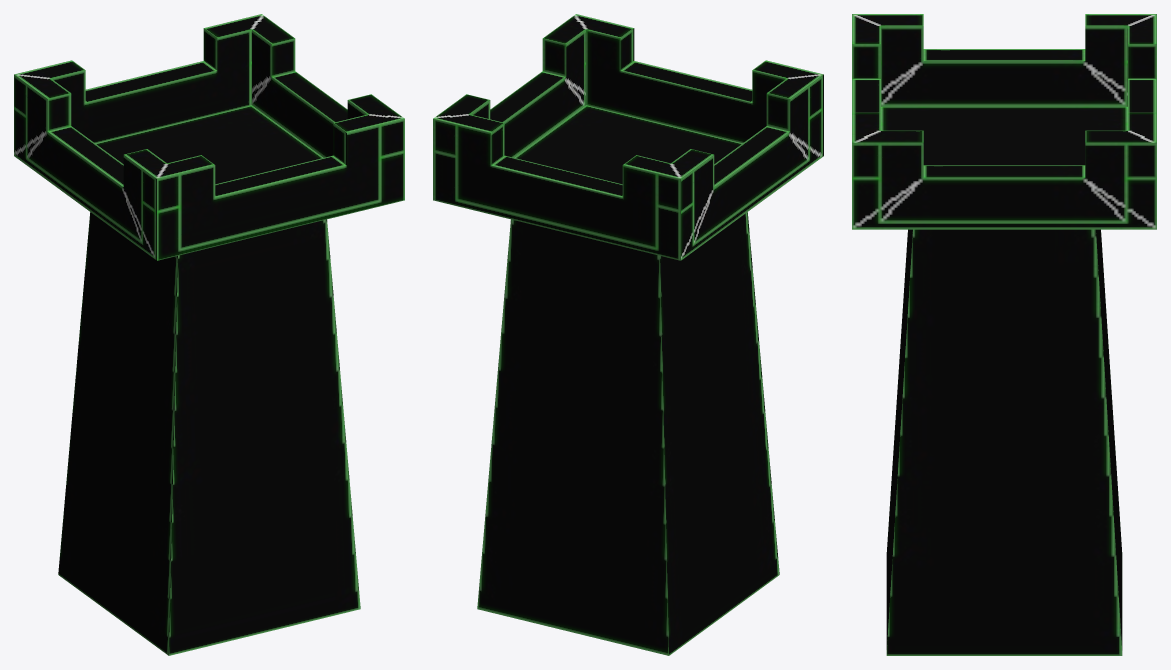
File: build-tower.FBX
3 views of the same model, side by side, from view 1: azimuth 30°, elevation 25°; view 2: azimuth 150°, elevation 25°; view 3: azimuth 270°, elevation 25° (orthographic). The views are drawn at different scales.
Parts seen in each view (by area): view 1: Box001; view 2: Box001; view 3: Box001.
Part boxes in pixels (x1,y1,x2,y2): Box001: (14, 14, 404, 655); Box001: (433, 14, 823, 655); Box001: (852, 14, 1156, 655).
Bounding box in the file's own units: 19.38 × 37.03 × 19.38.
1 material, 1 textured.
